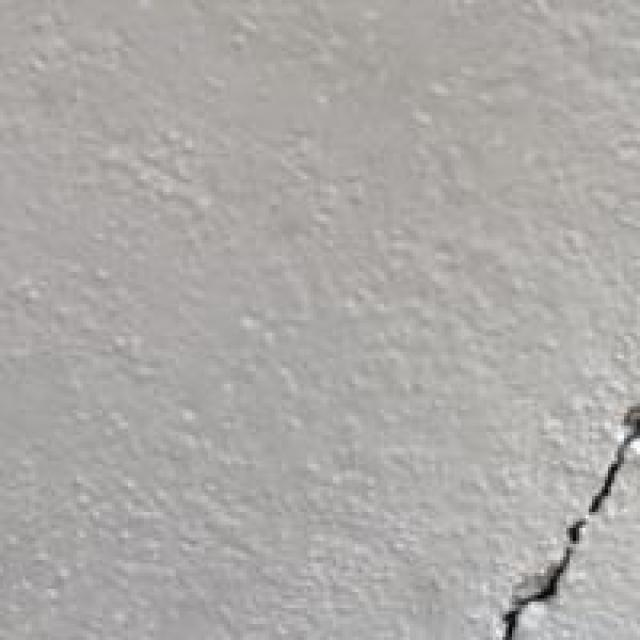crack: (470, 397, 637, 637)
